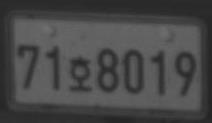0: (123, 49, 145, 94)
1: (44, 46, 66, 90), (149, 50, 169, 95)
7: (16, 45, 40, 89)
8: (96, 48, 119, 92)
9: (174, 51, 197, 96)
호: (68, 55, 92, 93)
